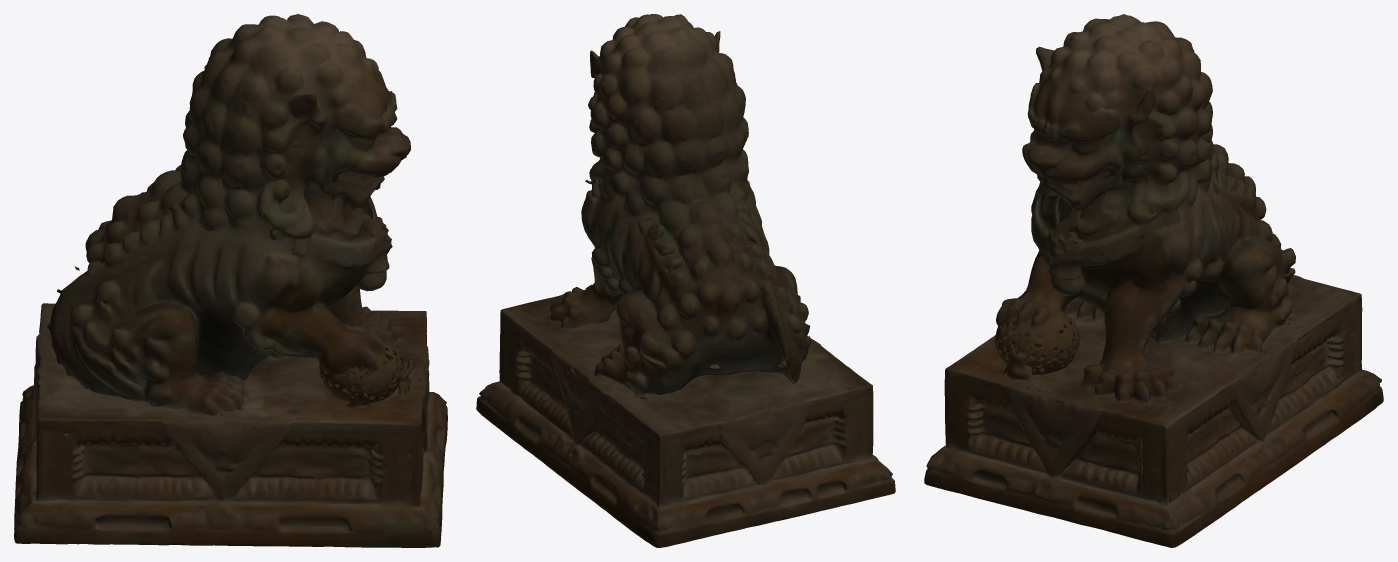
Rendered from obj125_bronze_lion_guardian.glb.
The picture shows the model from 3 angles, left to right: view 1: azimuth 30°, elevation 25°; view 2: azimuth 150°, elevation 25°; view 3: azimuth 270°, elevation 25°; orthographic projection. The views are drawn at different scales.
Size of the model in its own units: 0.4965 by 0.4841 by 0.4575.
1 material, 1 textured.
